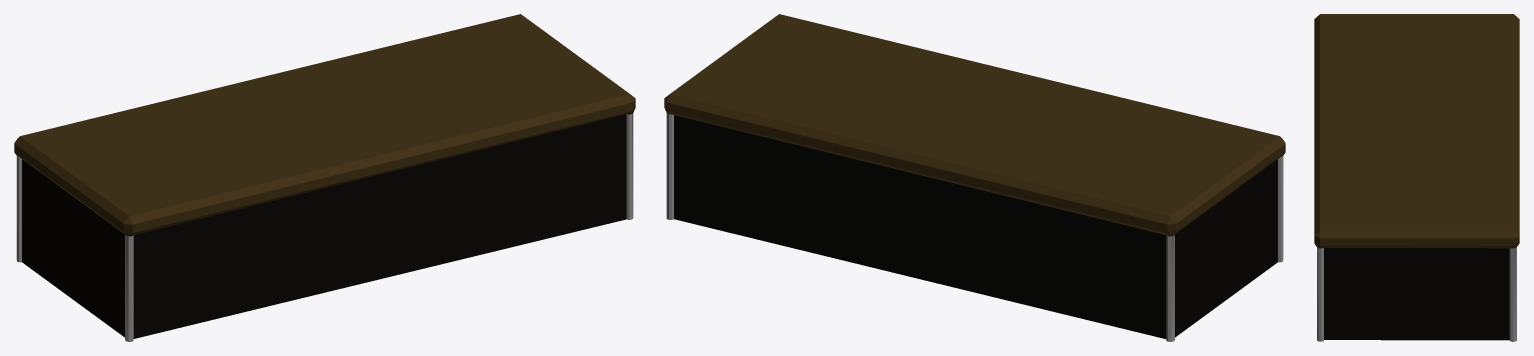
File: table11.fbx
The picture shows the model from 3 angles, left to right: view 1: azimuth 30°, elevation 25°; view 2: azimuth 150°, elevation 25°; view 3: azimuth 270°, elevation 25°; orthographic projection. The views are drawn at different scales.
Visible parts, largest first — view 1: Table11; view 2: Table11; view 3: Table11.
Boxes of the visible parts, bbox=[...] form: Table11: bbox=[14, 14, 635, 341]; Table11: bbox=[664, 14, 1285, 341]; Table11: bbox=[1314, 14, 1519, 341].
Bounding box in the file's own units: 344 × 79.83 × 135.
